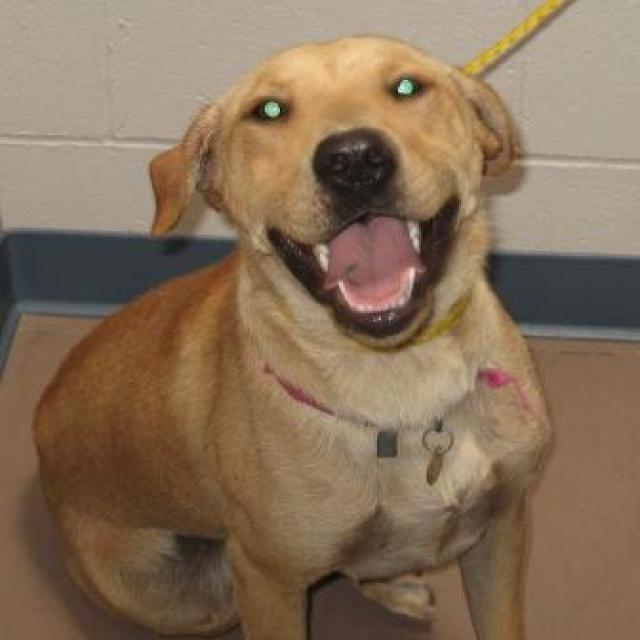Dogs: (29, 32, 556, 638)
